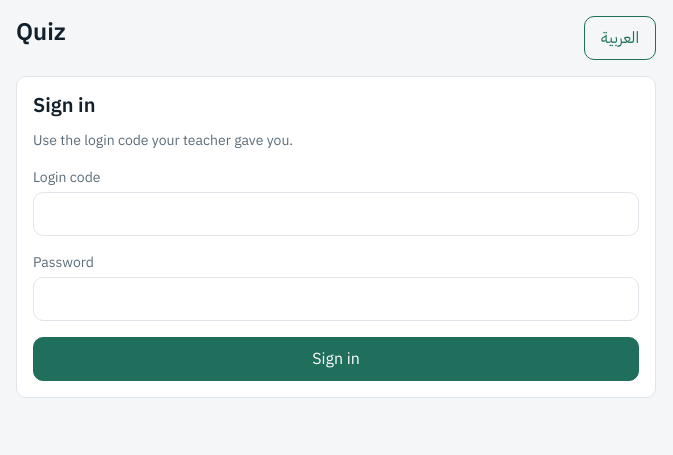
Test case: signing in › shows one neutral message for a rejected sign-in, naming neither field
The image size is (673, 455).
Type "10A-001" into the field labelled "Login code".
click(336, 214); type("10A-001")  # box x1=33 y1=192 x2=639 y2=236
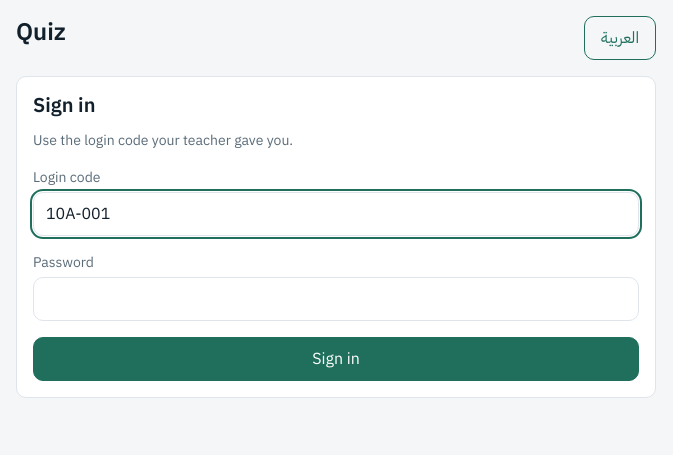
Type "wrong" into the password field labelled "Password".
click(336, 299); type("wrong")  # box x1=33 y1=277 x2=639 y2=321
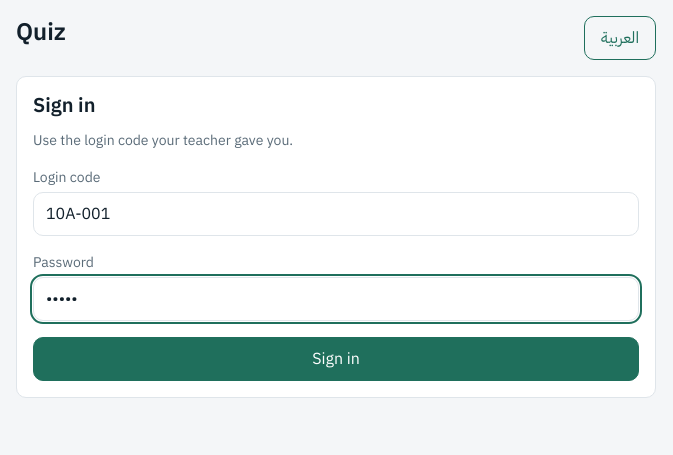
Click the button "Sign in".
click(336, 359)  # box x1=33 y1=337 x2=639 y2=381
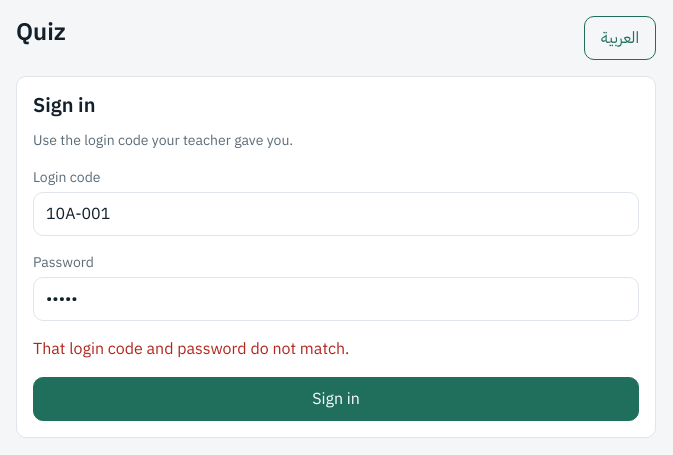
Result: the message reads "That login code and password do not match." at x1=33 y1=337 x2=349 y2=361
